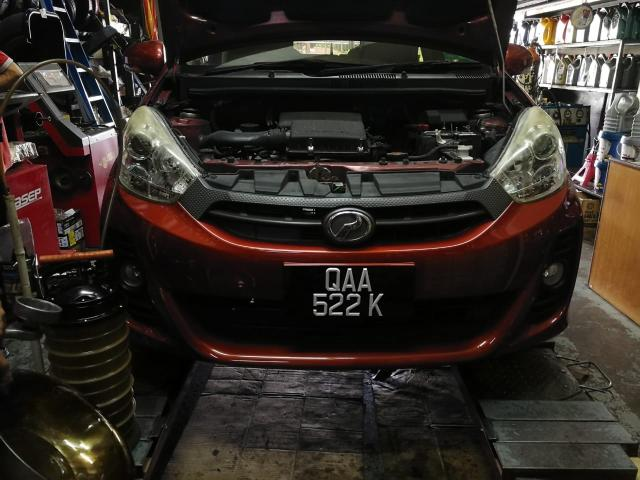License_Plate: (285, 264, 416, 333)
